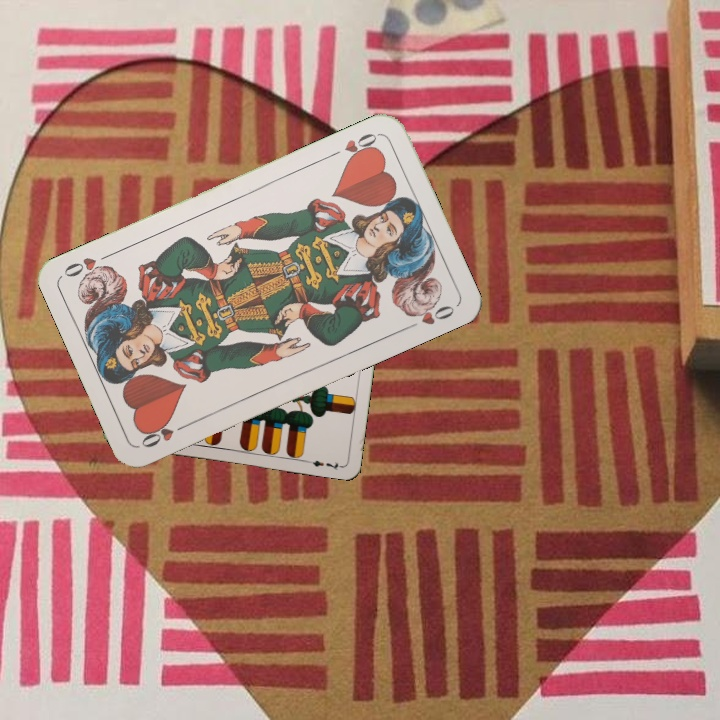HO: (325, 129, 381, 164), (137, 417, 193, 451)
